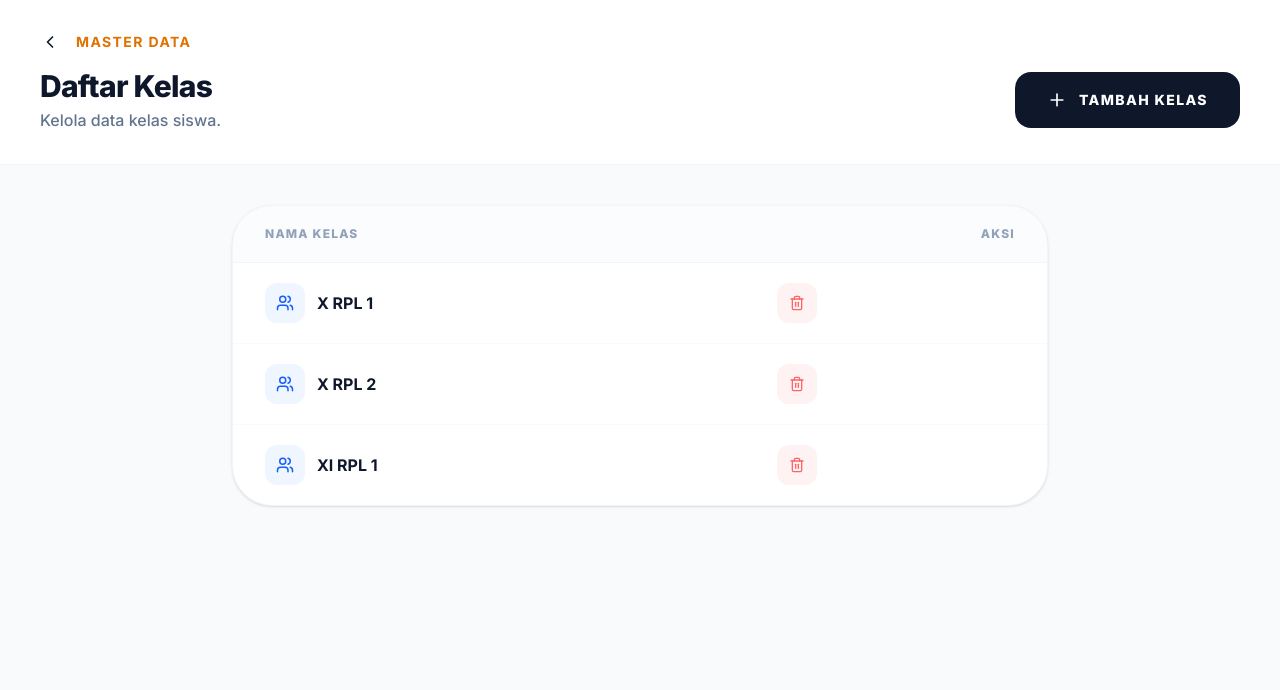
it: ClassesClient › shows add form when Tambah Kelas clicked
Click the button "Tambah Kelas" at coordinates (1127, 100), box [1015, 72, 1240, 128]
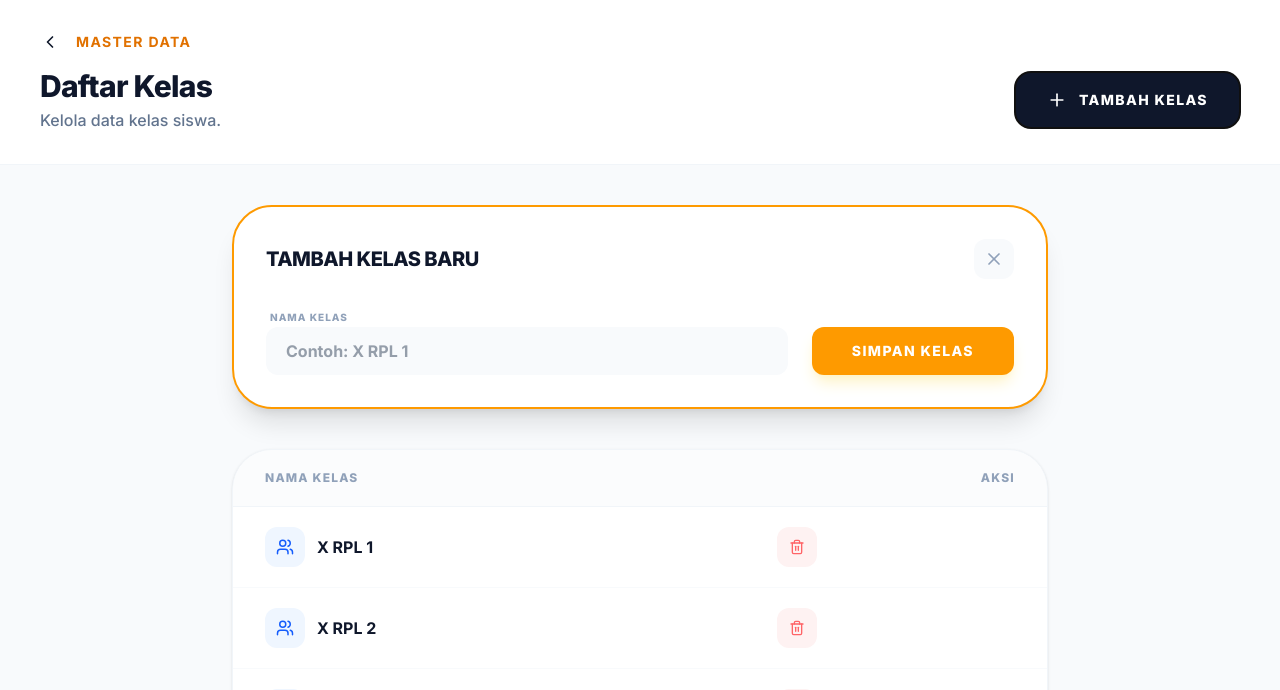
Check: the heading "Tambah Kelas Baru" is shown, box [266, 245, 479, 273]
Check: the field with placeholder "Contoh: X RPL 1" is shown, box [266, 327, 788, 375]
Check: the button "Simpan Kelas" is shown, box [812, 327, 1014, 375]
